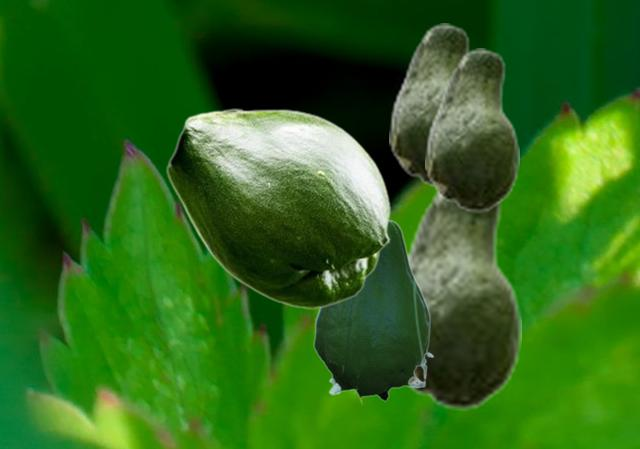sayote: (166, 108, 390, 308), (403, 188, 520, 410), (313, 219, 433, 404), (425, 48, 518, 212), (389, 23, 474, 187)
